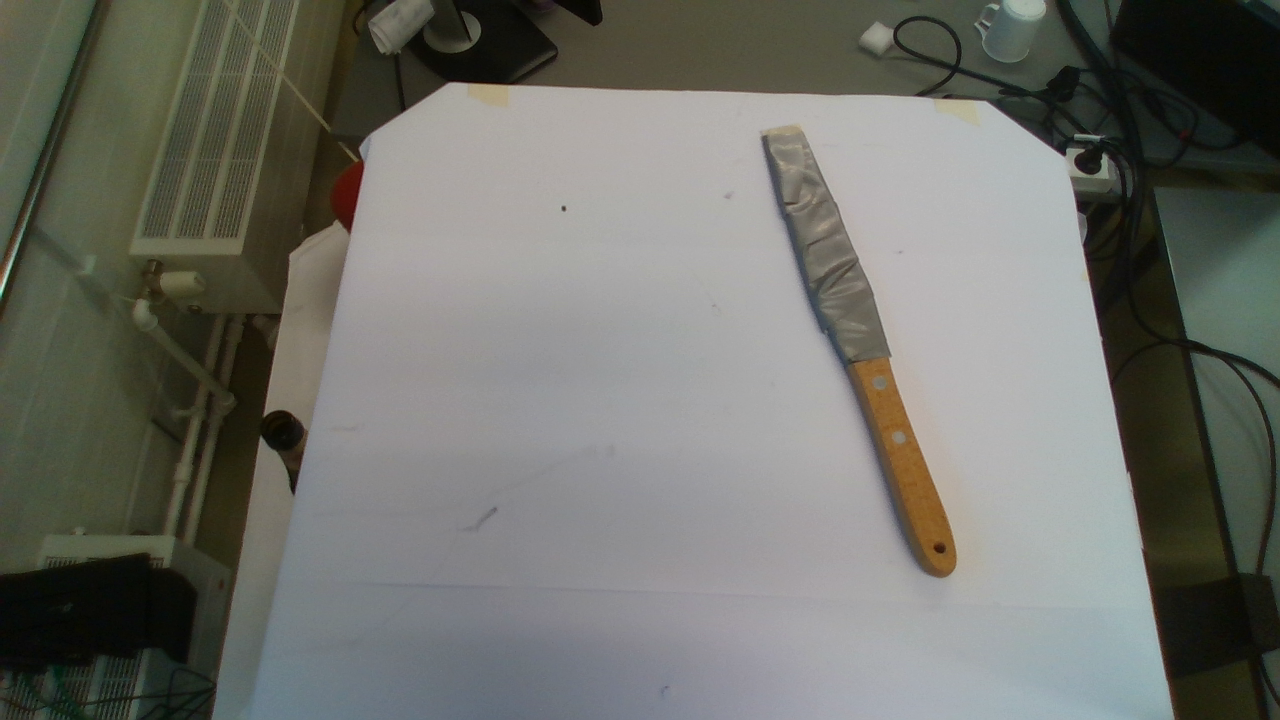knife: (763, 126, 953, 579)
